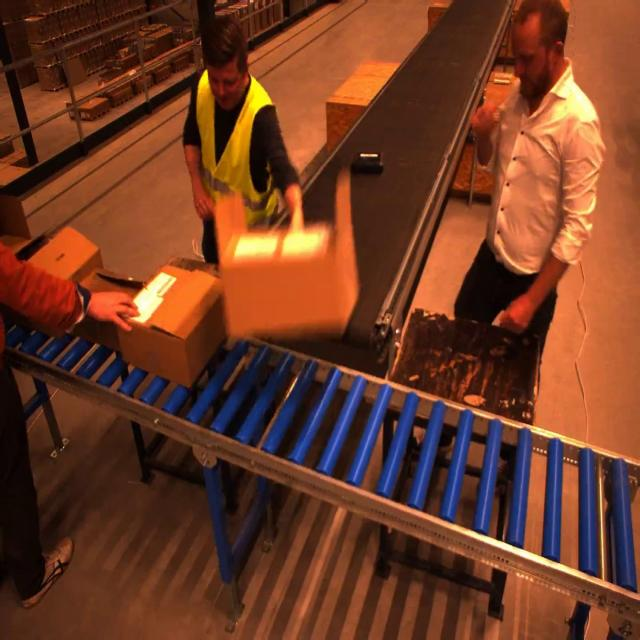box: (215, 215, 367, 342), (124, 251, 219, 386), (10, 225, 107, 320), (70, 271, 143, 348)
product: (351, 147, 388, 178)
